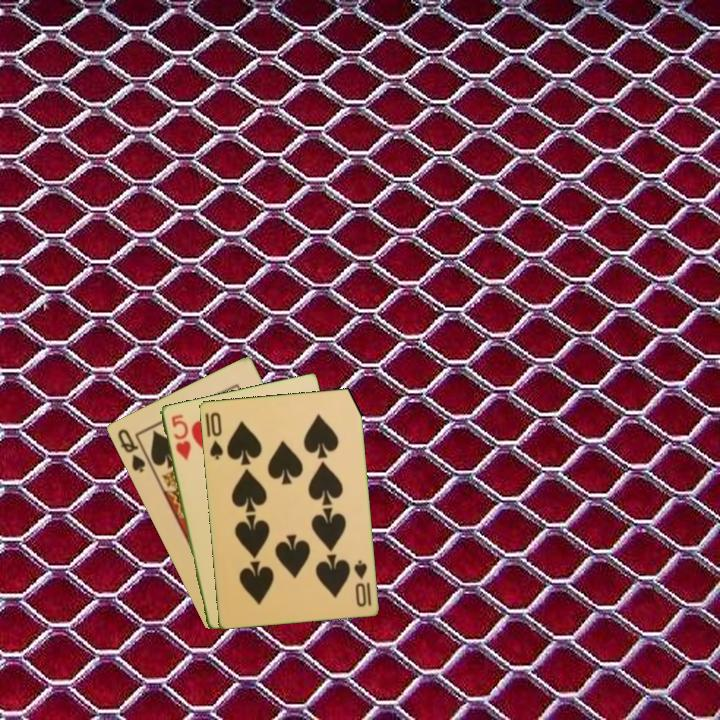10s: (350, 556, 374, 610), (206, 408, 226, 462)
5h: (167, 411, 193, 463)
Qs: (114, 425, 148, 476)
